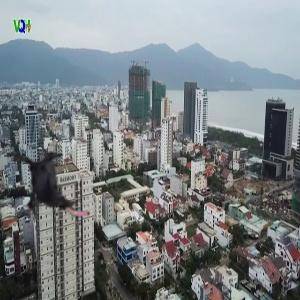drone: (2, 137, 98, 233)
